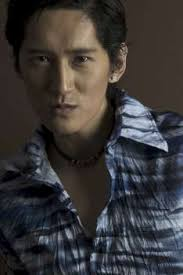asian_male: (8, 1, 130, 154)
